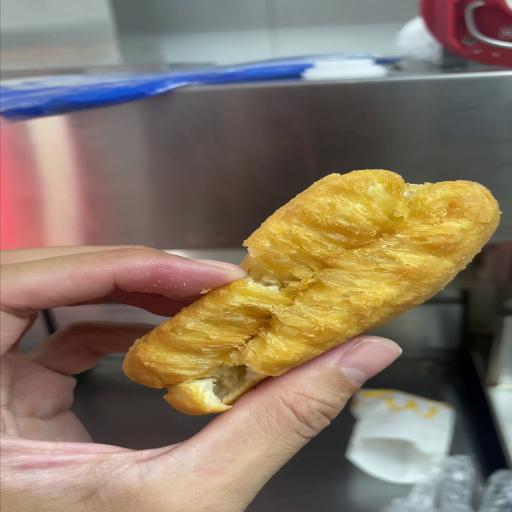brand_golden_defect: (123, 170, 499, 414)
